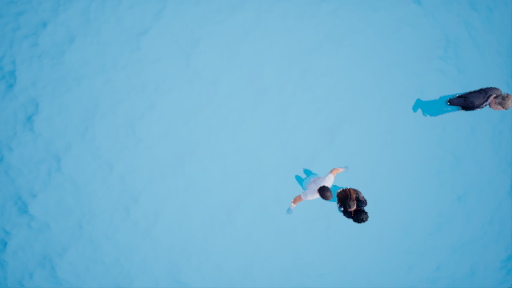person: (402, 80, 512, 122), (274, 161, 345, 209), (329, 170, 377, 240)
